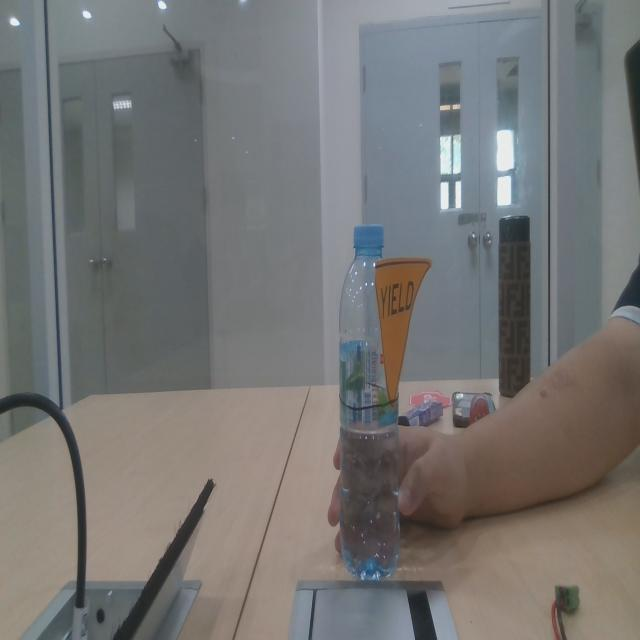Yield: (373, 250, 434, 416)
